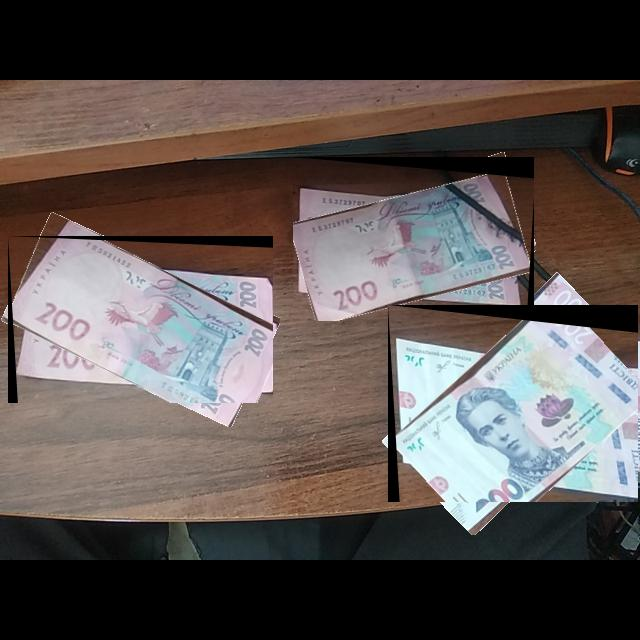200uah: (388, 305, 639, 503), (8, 236, 274, 404), (293, 171, 532, 322)
